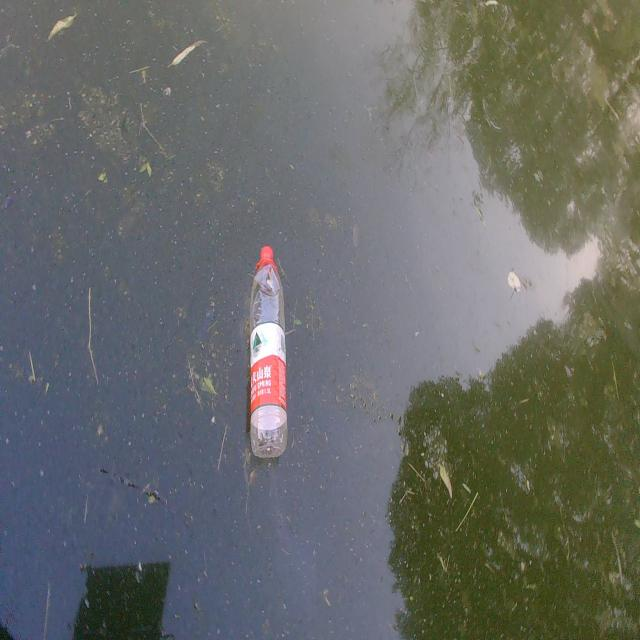Bottle: (243, 240, 292, 466)
